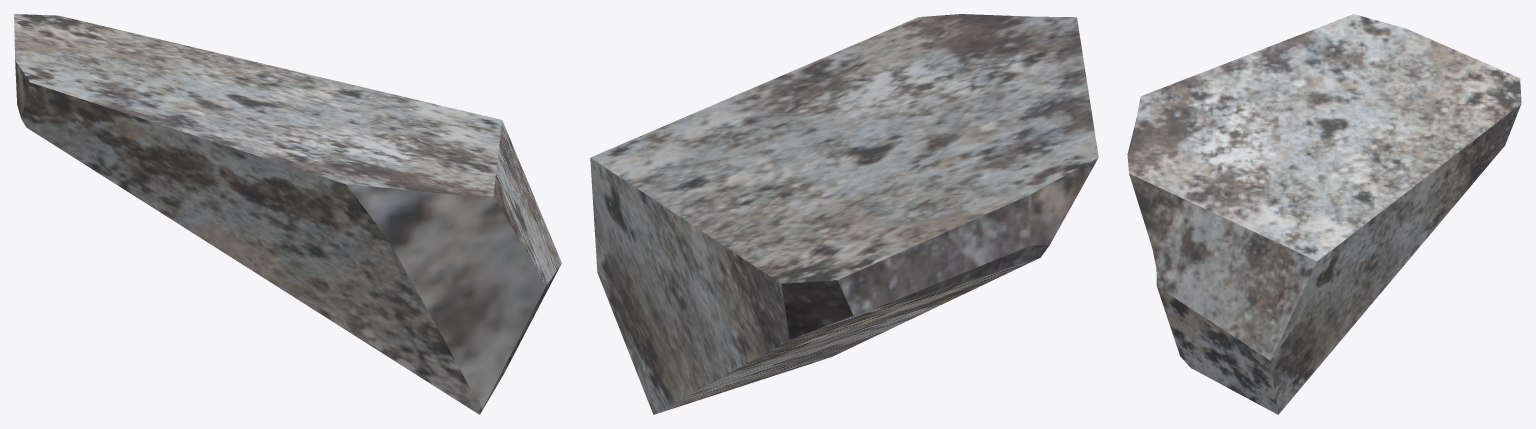
File: Asteroid_Large_001_02_002_03_009.fbx
3 views of the same model, side by side, from view 1: azimuth 30°, elevation 25°; view 2: azimuth 150°, elevation 25°; view 3: azimuth 270°, elevation 25° (orthographic). The views are drawn at different scales.
Parts seen in each view (by area): view 1: Asteroid_Large_001_02_002_03_009; view 2: Asteroid_Large_001_02_002_03_009; view 3: Asteroid_Large_001_02_002_03_009.
Boxes of the visible parts, x1,y1,x2,y2 form: Asteroid_Large_001_02_002_03_009: (14, 14, 561, 414); Asteroid_Large_001_02_002_03_009: (590, 14, 1098, 414); Asteroid_Large_001_02_002_03_009: (1127, 14, 1521, 414).
Bounding box in the file's own units: 8.13 × 5.82 × 8.19.
